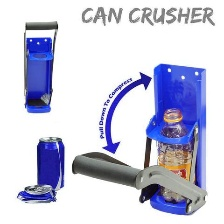bottle: (154, 107, 197, 205)
can: (34, 130, 67, 191), (10, 182, 61, 206)
